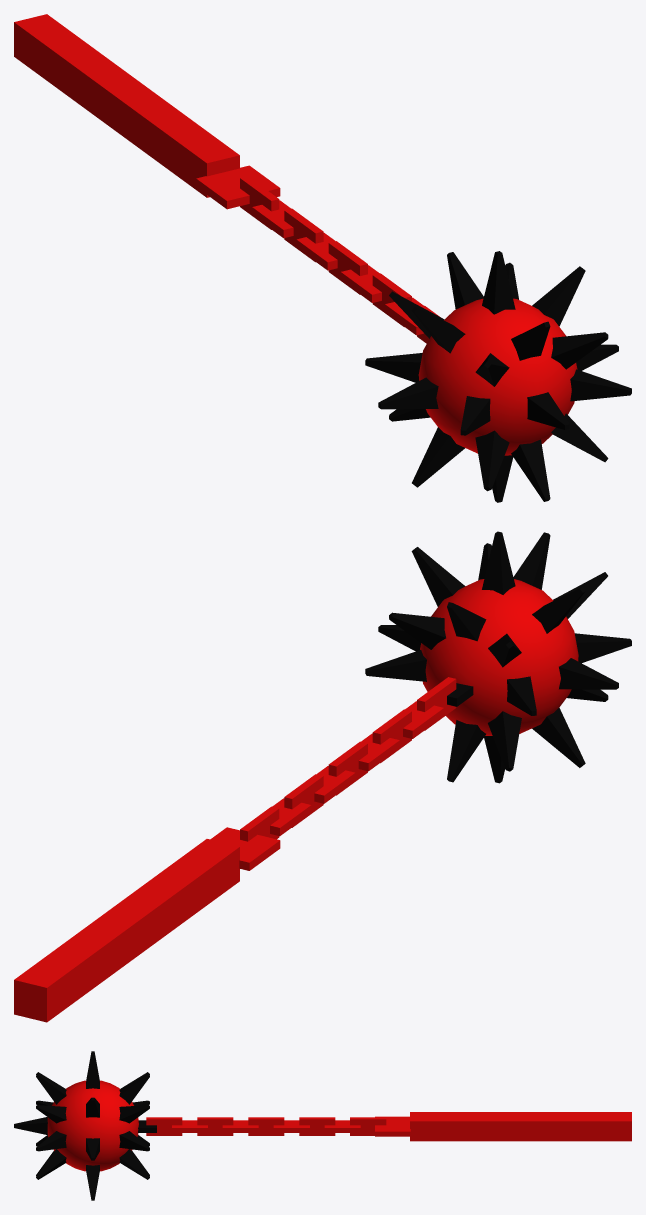
Rendered from FlailCollision.fbx.
3 views of the same model, one above another, from view 1: azimuth 30°, elevation 25°; view 2: azimuth 150°, elevation 25°; view 3: azimuth 270°, elevation 25° (orthographic). The views are drawn at different scales.
Visible parts, largest first — view 1: FlailBall, FlailRoot1, FlailLink05, FlailLink03, FlailLink01, FlailLink04, FlailLink02, FlailLink06, FlailLink07; view 2: FlailBall, FlailRoot1, FlailLink05, FlailLink03, FlailLink07, FlailLink09, FlailLink02, FlailLink04, FlailLink06, FlailLink08, FlailLink01; view 3: FlailBall, FlailRoot1, FlailLink05, FlailLink09, FlailLink07, FlailLink03, FlailLink01, FlailLink06, FlailLink04, FlailLink02, FlailLink08.
Boxes of the visible parts, x1=… form: FlailBall: x1=365, y1=251, x2=631, y2=502; FlailRoot1: x1=14, y1=14, x2=280, y2=209; FlailLink05: x1=328, y1=241, x2=367, y2=294; FlailLink03: x1=284, y1=208, x2=323, y2=262; FlailLink01: x1=240, y1=176, x2=279, y2=229; FlailLink04: x1=296, y1=233, x2=337, y2=270; FlailLink02: x1=252, y1=200, x2=293, y2=238; FlailLink06: x1=340, y1=265, x2=381, y2=302; FlailLink07: x1=372, y1=273, x2=411, y2=327; FlailBall: x1=365, y1=531, x2=631, y2=783; FlailRoot1: x1=14, y1=827, x2=280, y2=1022; FlailLink05: x1=328, y1=741, x2=367, y2=795; FlailLink03: x1=284, y1=774, x2=323, y2=827; FlailLink07: x1=372, y1=709, x2=411, y2=763; FlailLink09: x1=417, y1=677, x2=456, y2=730; FlailLink02: x1=270, y1=798, x2=311, y2=836; FlailLink04: x1=314, y1=766, x2=355, y2=803; FlailLink06: x1=358, y1=733, x2=399, y2=771; FlailLink08: x1=403, y1=701, x2=443, y2=738; FlailLink01: x1=240, y1=806, x2=279, y2=841; FlailBall: x1=14, y1=1051, x2=156, y2=1200; FlailRoot1: x1=375, y1=1112, x2=631, y2=1141; FlailLink05: x1=248, y1=1117, x2=284, y2=1135; FlailLink09: x1=146, y1=1117, x2=182, y2=1135; FlailLink07: x1=197, y1=1117, x2=233, y2=1135; FlailLink03: x1=299, y1=1117, x2=335, y2=1135; FlailLink01: x1=350, y1=1117, x2=386, y2=1135; FlailLink06: x1=222, y1=1120, x2=258, y2=1132; FlailLink04: x1=273, y1=1120, x2=309, y2=1132; FlailLink02: x1=324, y1=1120, x2=360, y2=1132; FlailLink08: x1=172, y1=1120, x2=207, y2=1132.
Bounding box in the file's own units: 30.05 × 30.05 × 118.
